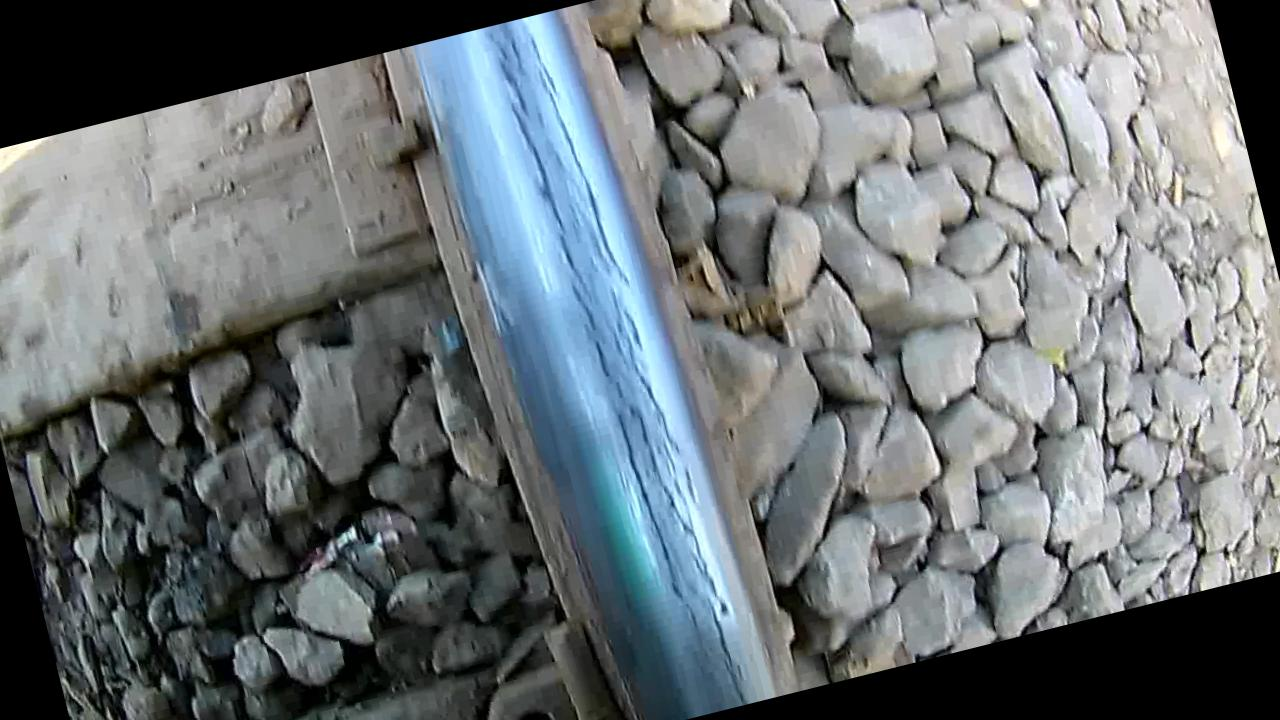normal_track: (475, 7, 759, 720)
